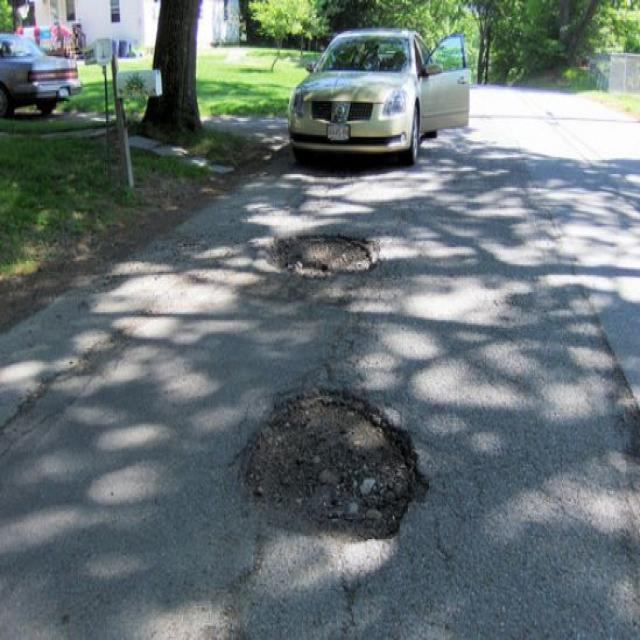Pothole: (228, 383, 435, 545), (266, 226, 380, 284)
